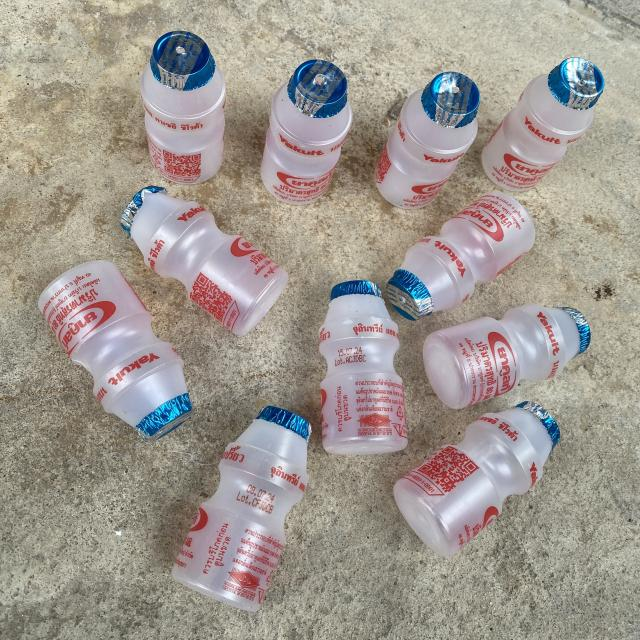Single-Use-Plastic: (171, 406, 311, 612), (39, 260, 192, 440), (394, 402, 560, 556), (122, 186, 289, 335), (386, 192, 535, 320), (422, 304, 590, 409), (482, 58, 604, 191), (319, 280, 408, 455), (375, 71, 480, 209), (140, 31, 226, 184), (261, 60, 352, 204)
